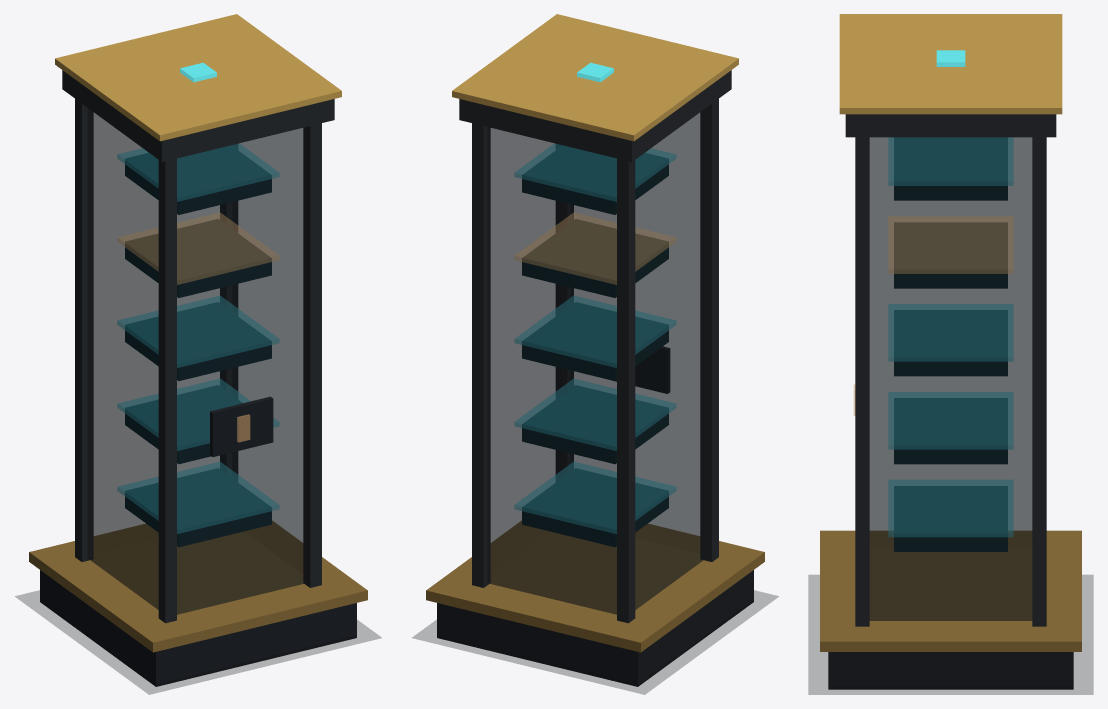
File: hp_room_desire_archive_tower.glb
3 views of the same model, side by side, from view 1: azimuth 30°, elevation 25°; view 2: azimuth 150°, elevation 25°; view 3: azimuth 270°, elevation 25° (orthographic). The views are drawn at different scales.
Parts seen in each view (by area): view 1: column_shell, plinth_trim, cap_trim, plinth, column_rib_-1_1, column_rib_1_1, column_rib_-1_-1, core_3, core_0, core_2, cap, core_4 (+9 smaller); view 2: column_shell, plinth_trim, cap_trim, plinth, column_rib_-1_-1, column_rib_1_-1, column_rib_-1_1, core_3, core_0, core_1, core_2, cap (+9 smaller); view 3: column_shell, plinth_trim, cap_trim, plinth, core_1, core_2, core_3, core_0, column_rib_1_-1, column_rib_1_1, core_glow_1, core_glow_2 (+7 smaller).
Boxes of the visible parts, bbox=[...] form: column_shell: bbox=[88, 108, 306, 614]; plinth_trim: bbox=[29, 521, 367, 652]; cap_trim: bbox=[55, 14, 341, 141]; plinth: bbox=[40, 570, 356, 686]; column_rib_-1_1: bbox=[158, 158, 176, 623]; column_rib_1_1: bbox=[303, 123, 321, 587]; column_rib_-1_-1: bbox=[75, 99, 93, 561]; core_3: bbox=[125, 219, 271, 297]; core_0: bbox=[125, 468, 271, 546]; core_2: bbox=[125, 302, 271, 380]; cap: bbox=[62, 70, 334, 161]; core_4: bbox=[125, 146, 271, 214]; column_shell: bbox=[487, 108, 705, 614]; plinth_trim: bbox=[426, 521, 764, 652]; cap_trim: bbox=[452, 14, 738, 141]; plinth: bbox=[437, 570, 753, 686]; column_rib_-1_-1: bbox=[617, 158, 635, 623]; column_rib_1_-1: bbox=[472, 123, 490, 587]; column_rib_-1_1: bbox=[700, 99, 718, 561]; core_3: bbox=[522, 219, 668, 297]; core_0: bbox=[522, 468, 668, 546]; core_1: bbox=[522, 385, 668, 463]; core_2: bbox=[522, 302, 668, 380]; cap: bbox=[459, 70, 731, 161]; column_shell: bbox=[869, 137, 1032, 620]; plinth_trim: bbox=[820, 530, 1081, 651]; cap_trim: bbox=[839, 14, 1062, 114]; plinth: bbox=[828, 652, 1073, 689]; core_1: bbox=[894, 398, 1007, 464]; core_2: bbox=[894, 310, 1007, 376]; core_3: bbox=[894, 222, 1007, 288]; core_0: bbox=[894, 486, 1007, 551]; column_rib_1_-1: bbox=[1032, 137, 1046, 626]; column_rib_1_1: bbox=[855, 137, 869, 626]; core_glow_1: bbox=[888, 392, 1013, 449]; core_glow_2: bbox=[888, 304, 1013, 361].
Size of the model in its own units: 1 by 2.25 by 1.
